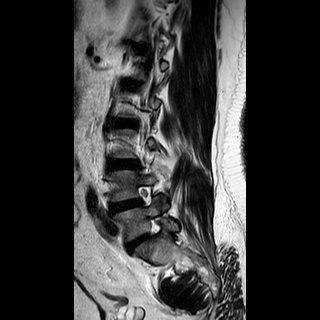LFS0: (131, 178, 160, 213)
